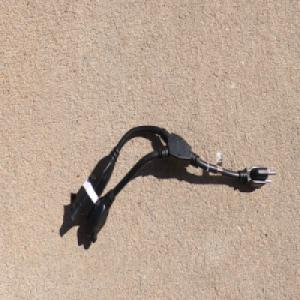Wire: (69, 124, 277, 244)
